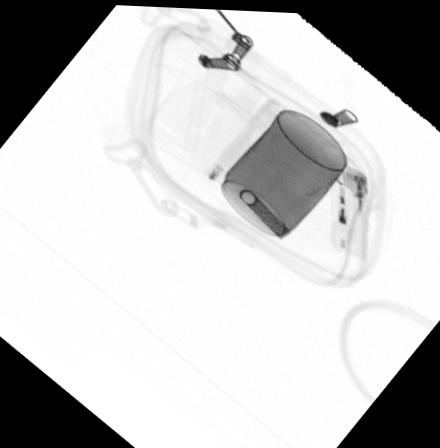Lighter: (331, 156, 370, 257)
